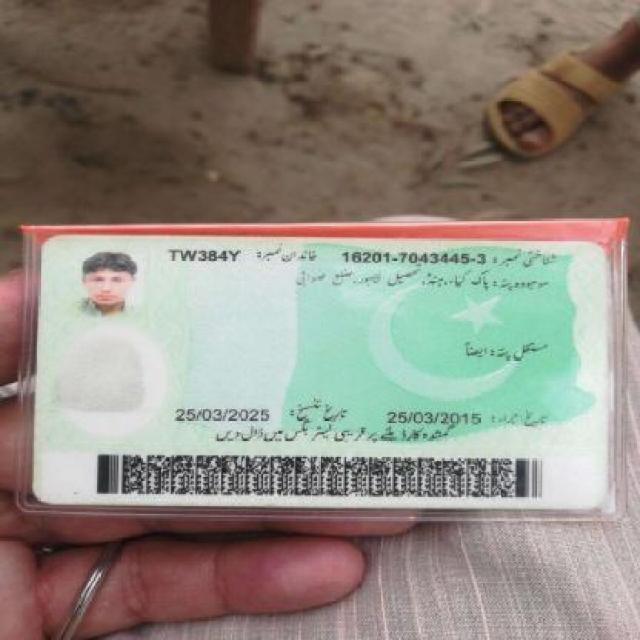Back: (29, 228, 626, 523)
